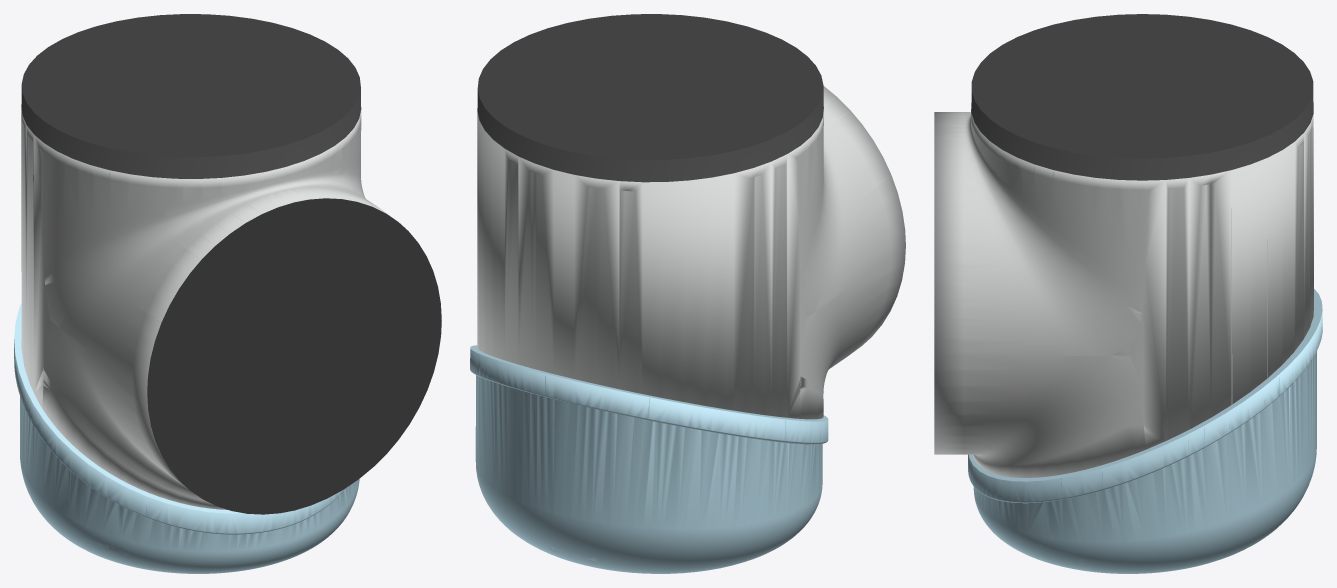
The model's file is wrist1.dae.
The picture shows the model from 3 angles, left to right: view 1: azimuth 30°, elevation 25°; view 2: azimuth 150°, elevation 25°; view 3: azimuth 270°, elevation 25°; orthographic projection.
Parts seen in each view (by area): view 1: Actor0, Actor1; view 2: Actor0, Actor1; view 3: Actor0, Actor1.
Boxes of the visible parts, x1=… form: Actor0: x1=21, y1=14, x2=441, y2=514; Actor1: x1=14, y1=303, x2=359, y2=573; Actor0: x1=477, y1=14, x2=905, y2=419; Actor1: x1=470, y1=345, x2=828, y2=573; Actor0: x1=934, y1=14, x2=1313, y2=477; Actor1: x1=968, y1=289, x2=1322, y2=573.
Bounding box in the file's own units: 0.0775 × 0.0849 × 0.1047.
